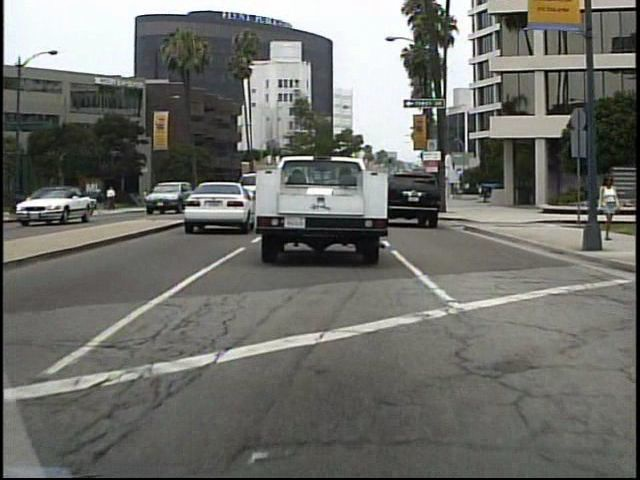person: (595, 171, 621, 245), (108, 185, 120, 214), (144, 186, 151, 209), (100, 188, 104, 213)
